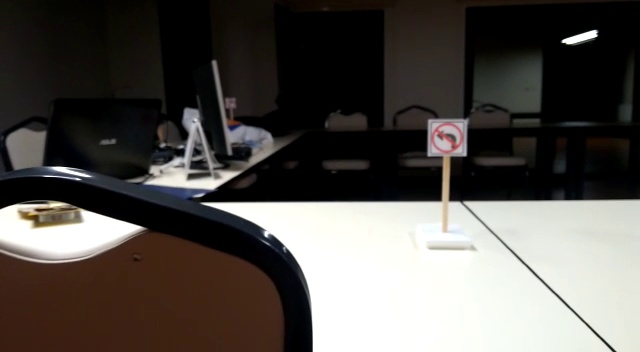sola_donulmez: (426, 115, 470, 159)
